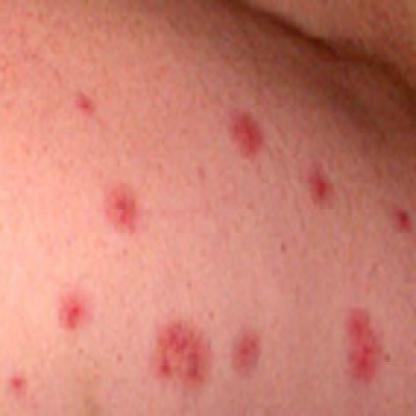Bed Bug: (148, 318, 214, 389), (337, 306, 390, 382), (224, 106, 265, 162), (296, 156, 338, 210), (98, 183, 141, 231), (227, 324, 264, 378), (56, 291, 86, 333), (68, 85, 96, 123), (388, 198, 412, 241), (4, 368, 26, 395)
